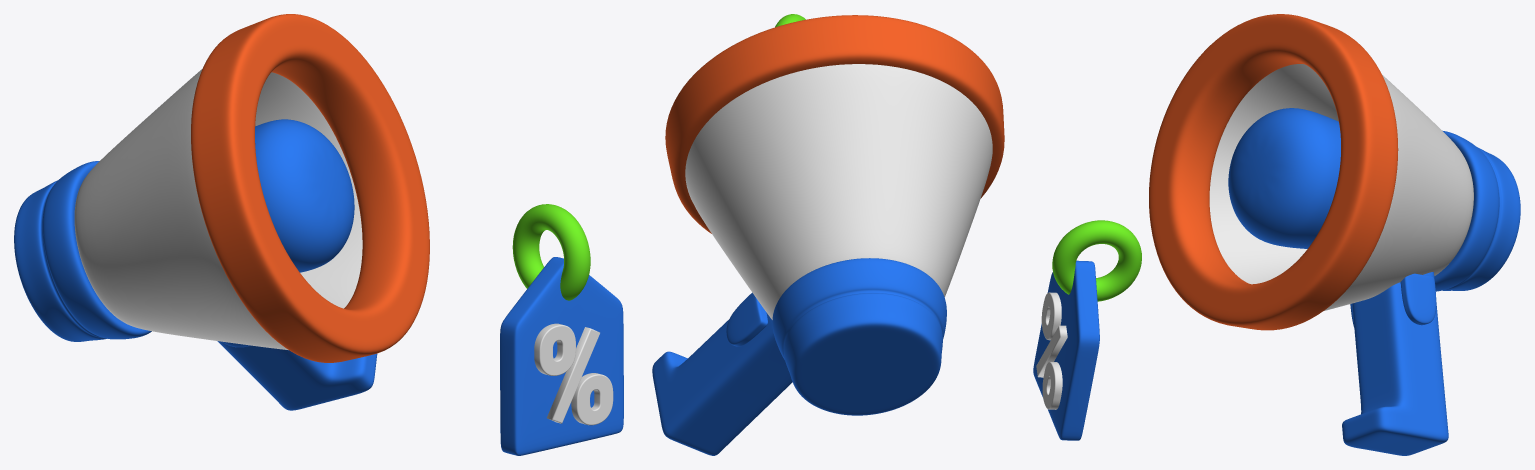
Rendered from advertising-and-promotions-3d-animated-icon-109643306677.glb.
3 renders of one model, left to right at view 1: azimuth 30°, elevation 25°; view 2: azimuth 150°, elevation 25°; view 3: azimuth 270°, elevation 25°, orthographic. The views are drawn at different scales.
Visible parts, largest first — view 1: speaker, tag body, handle, %, string; view 2: speaker, handle; view 3: speaker, handle, tag body, string, %.
Part boxes in pixels (left/top/right/bottom): speaker: left=14, top=14, right=429, bottom=362; tag body: left=500, top=257, right=623, bottom=455; handle: left=217, top=341, right=377, bottom=410; %: left=534, top=323, right=613, bottom=425; string: left=512, top=204, right=590, bottom=300; speaker: left=665, top=15, right=1004, bottom=415; handle: left=652, top=292, right=792, bottom=455; speaker: left=1149, top=14, right=1520, bottom=330; handle: left=1342, top=272, right=1448, bottom=455; tag body: left=1033, top=260, right=1099, bottom=440; string: left=1052, top=220, right=1141, bottom=301; %: left=1036, top=292, right=1067, bottom=409.
Bounding box in the file's own units: 2.78 × 2.9 × 3.24.
